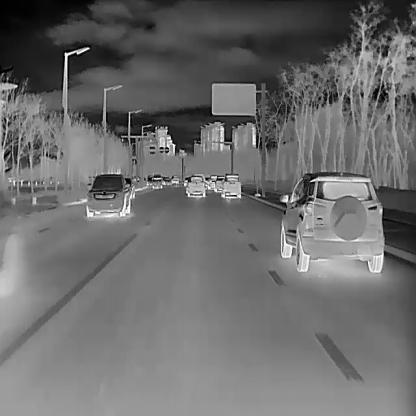car: (278, 171, 384, 272), (85, 174, 131, 216), (221, 172, 241, 197), (185, 175, 205, 197), (124, 177, 135, 198), (191, 172, 205, 188), (214, 175, 225, 190), (152, 172, 162, 188), (207, 175, 215, 189), (162, 176, 171, 185), (171, 174, 178, 183)
